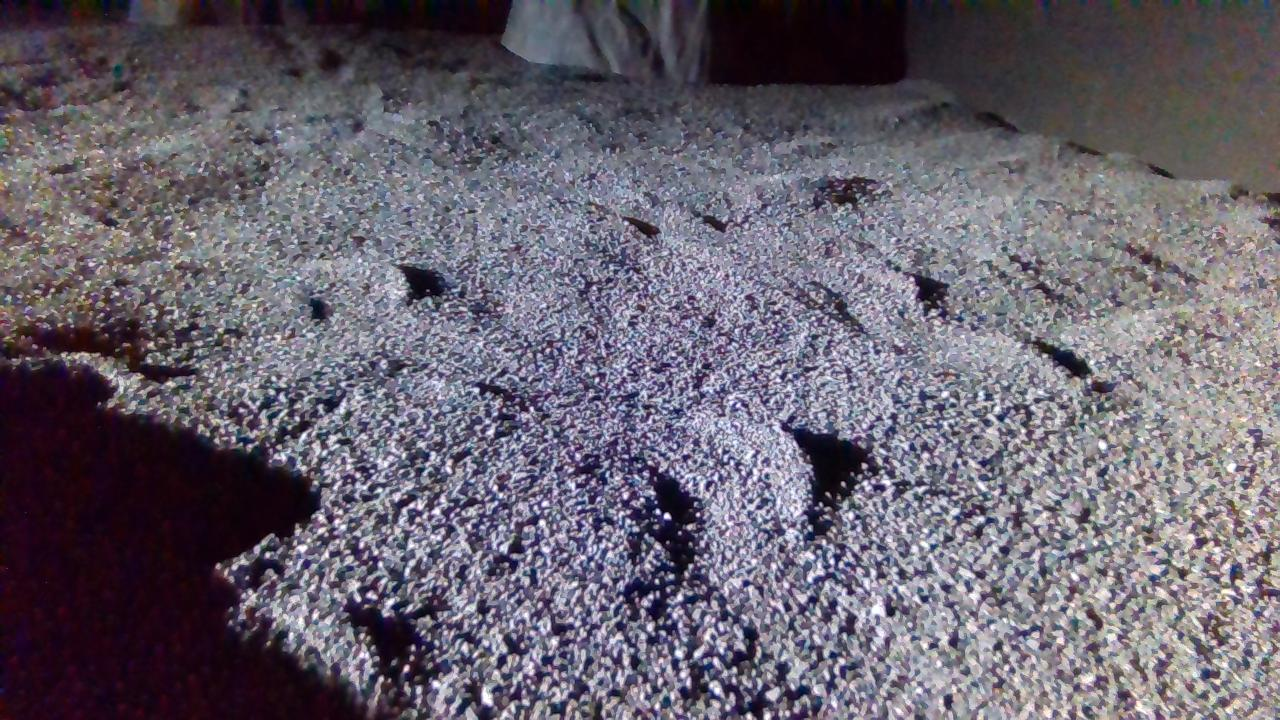rock: (500, 0, 711, 81)
